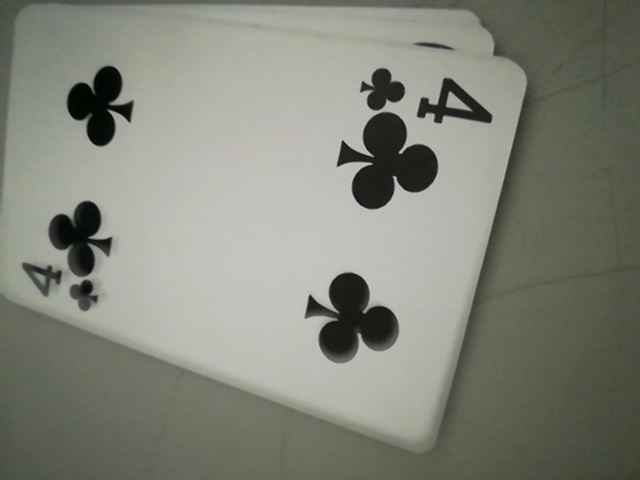mh 4: (357, 61, 492, 125), (14, 255, 105, 315)
